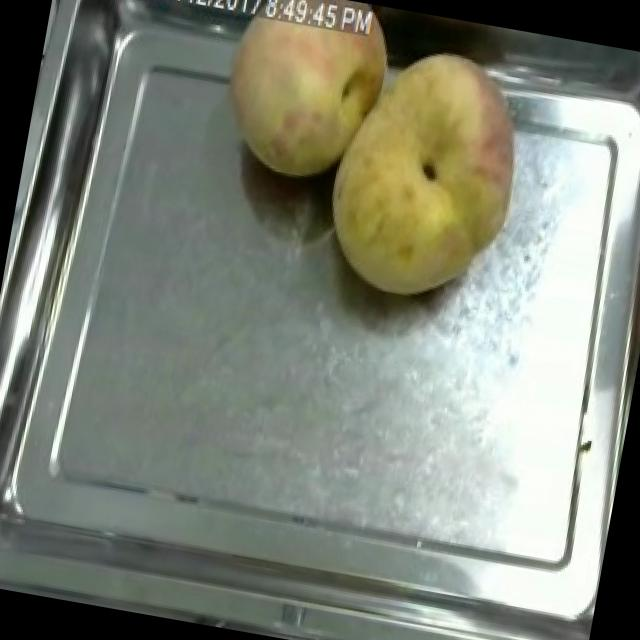Fruit: (304, 31, 546, 320), (200, 5, 402, 198)
